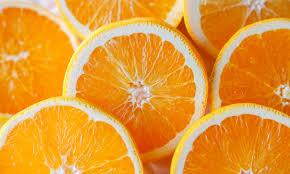orange: (55, 19, 209, 151), (12, 100, 159, 174), (205, 22, 290, 112), (178, 106, 290, 174), (0, 17, 72, 106)
